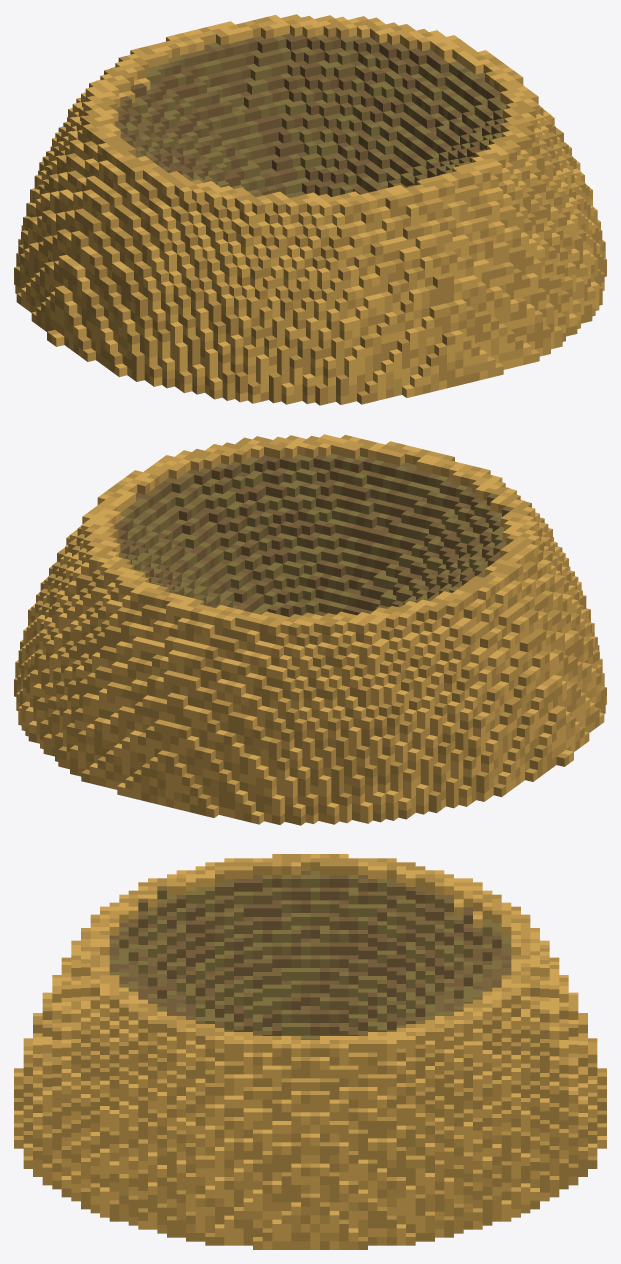
File: trap_1.FBX
3 views of the same model, one above another, from view 1: azimuth 30°, elevation 25°; view 2: azimuth 150°, elevation 25°; view 3: azimuth 270°, elevation 25° (orthographic). The views are drawn at different scales.
Visible parts, largest first — view 1: default052; view 2: default052; view 3: default052.
Part boxes in pixels (bbox=[...]): default052: bbox=[14, 14, 606, 405]; default052: bbox=[14, 434, 606, 825]; default052: bbox=[14, 854, 606, 1249].
Size of the model in its own units: 1583 by 503 by 1558.
